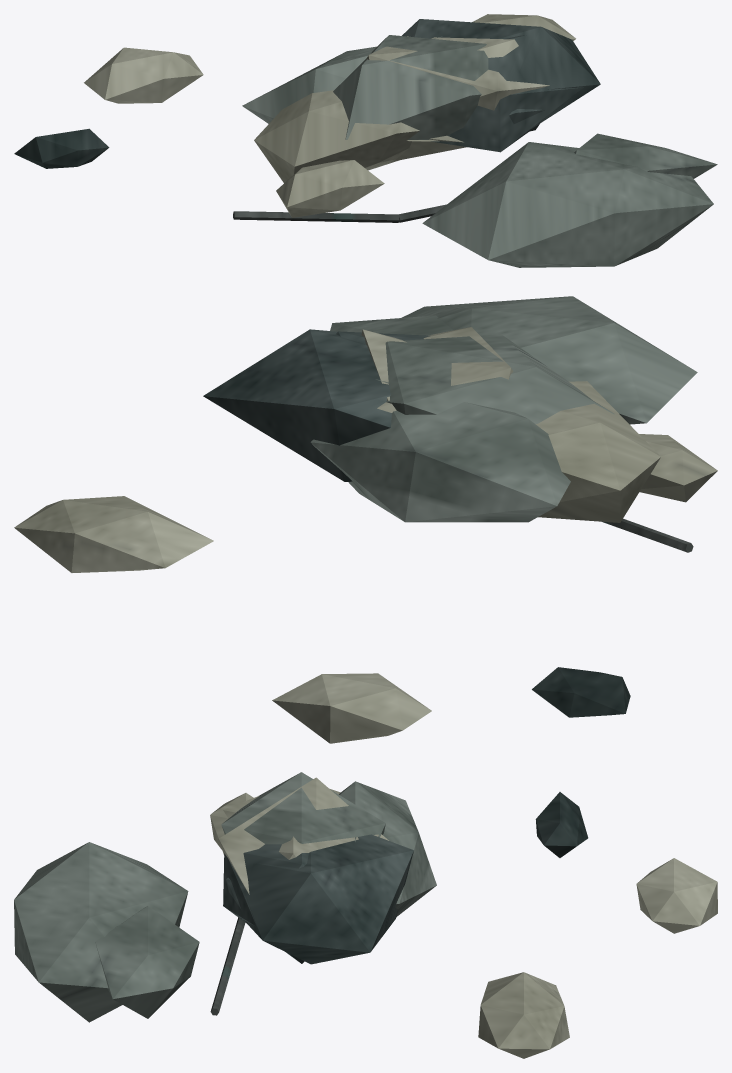
File: 0109_scree_pile_09.glb
3 views of the same model, one above another, from view 1: azimuth 30°, elevation 25°; view 2: azimuth 150°, elevation 25°; view 3: azimuth 270°, elevation 25° (orthographic). The views are drawn at different scales.
Visible parts, largest first — view 1: stone, stone_light, stone_dark, iron; view 2: stone, stone_light, stone_dark, iron; view 3: stone, stone_dark, stone_light, iron.
Part boxes in pixels (x1=…): stone: x1=242, y1=35, x2=717, y2=267; stone_light: x1=84, y1=14, x2=575, y2=217; stone_dark: x1=14, y1=19, x2=600, y2=168; iron: x1=233, y1=204, x2=446, y2=222; stone: x1=310, y1=296, x2=697, y2=522; stone_light: x1=14, y1=327, x2=717, y2=743; stone_dark: x1=203, y1=329, x2=630, y2=717; iron: x1=602, y1=518, x2=693, y2=552; stone: x1=14, y1=772, x2=436, y2=1022; stone_dark: x1=223, y1=792, x2=588, y2=964; stone_light: x1=210, y1=777, x2=717, y2=1058; iron: x1=210, y1=917, x2=245, y2=1015.
Bounding box in the file's own units: 2.12 × 0.6259 × 2.43.
Materials: 4 (4 with a texture image).
